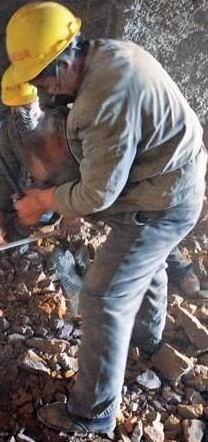boots: (34, 400, 113, 438), (168, 272, 208, 299)
hard-hat: (2, 1, 80, 84)
